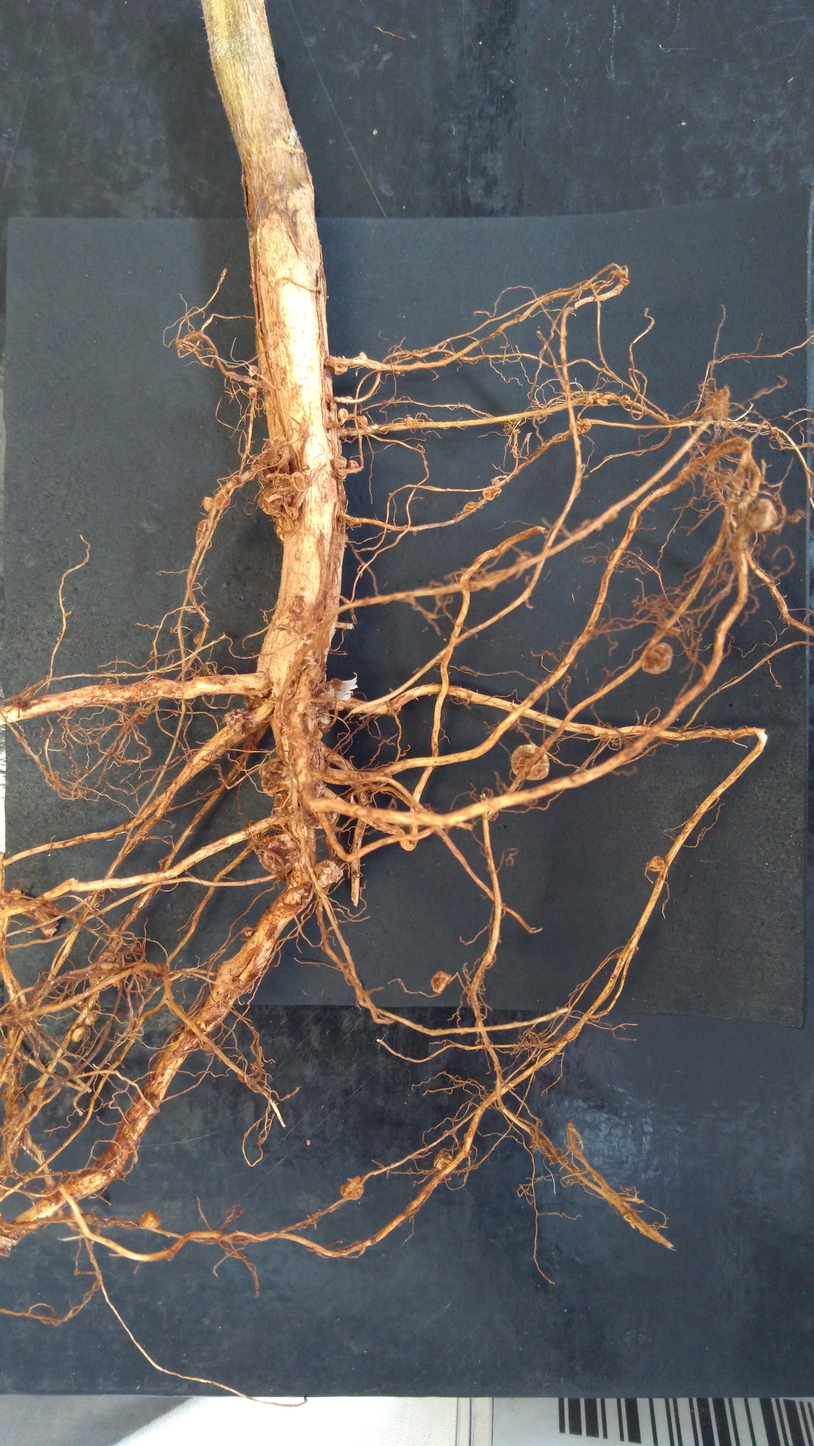nodule: (248, 826, 302, 884), (508, 738, 553, 784), (257, 754, 298, 801), (636, 638, 676, 678), (301, 799, 341, 837), (332, 1168, 371, 1205), (313, 858, 347, 891), (256, 488, 283, 519), (429, 967, 455, 996), (644, 852, 667, 878), (193, 518, 212, 549), (430, 1148, 454, 1172), (138, 1209, 163, 1231), (257, 448, 282, 466), (212, 491, 233, 512), (287, 471, 307, 493), (332, 452, 348, 476), (69, 1025, 88, 1042), (199, 494, 214, 514), (576, 418, 592, 434), (333, 363, 350, 378), (83, 1009, 98, 1026), (346, 458, 361, 474), (246, 383, 260, 400), (247, 363, 259, 380), (337, 406, 350, 420), (333, 471, 350, 481), (357, 414, 370, 427), (343, 394, 355, 404), (597, 397, 609, 406), (620, 395, 630, 405), (405, 416, 415, 421)
